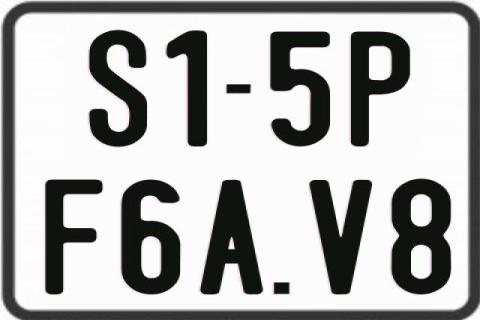0: (392, 178, 458, 298), (118, 178, 179, 292), (270, 31, 330, 145), (164, 31, 206, 150)
A: (200, 178, 264, 294)
F: (42, 177, 105, 293)
P: (349, 31, 413, 148)
S: (89, 28, 147, 144)
V: (307, 179, 374, 297)
